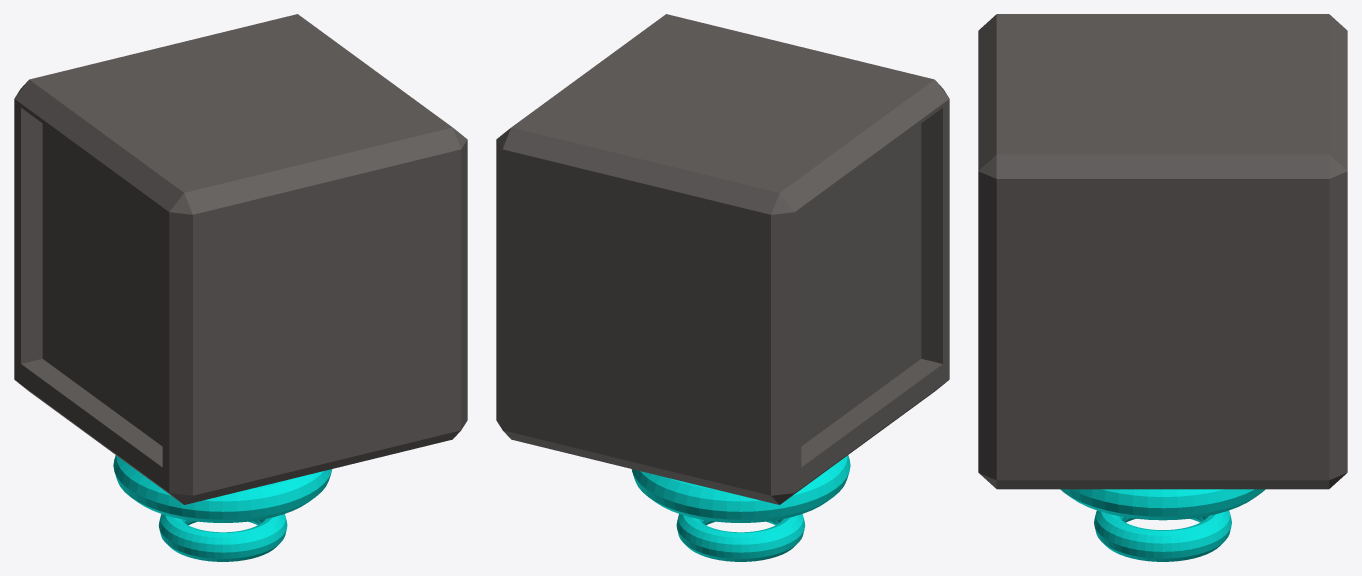
Rendered from RobotCharacter.fbx.
3 renders of one model, left to right at view 1: azimuth 30°, elevation 25°; view 2: azimuth 150°, elevation 25°; view 3: azimuth 270°, elevation 25°, orthographic. The views are drawn at different scales.
Parts seen in each view (by area): view 1: Torus.001; view 2: Torus.001; view 3: Torus.001.
Part boxes in pixels (x1=…): Torus.001: x1=14, y1=14, x2=467, y2=561; Torus.001: x1=496, y1=14, x2=949, y2=561; Torus.001: x1=978, y1=14, x2=1347, y2=561.
Size of the model in its own units: 200 by 276 by 200.
